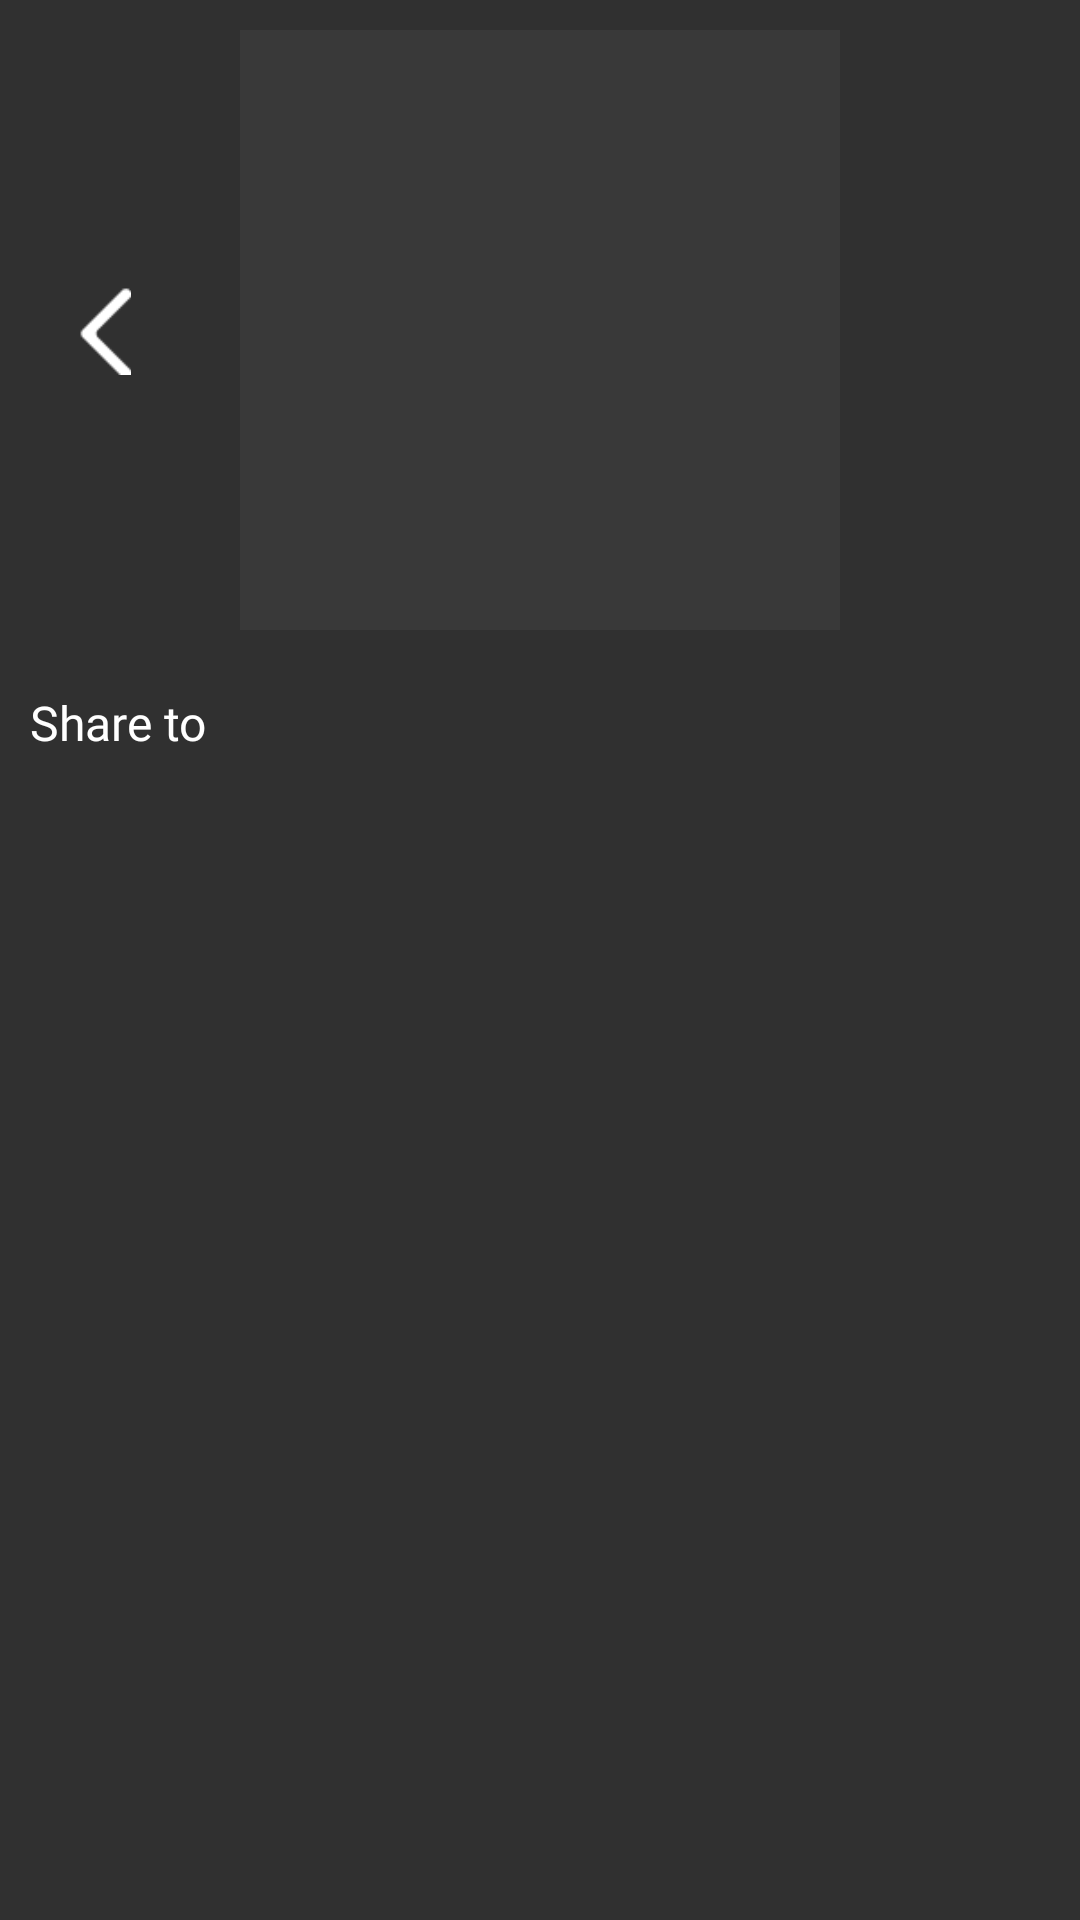

Named icons in this screenshot (1080×1920) and their centers, point (x, y):
back: point (105, 331)
